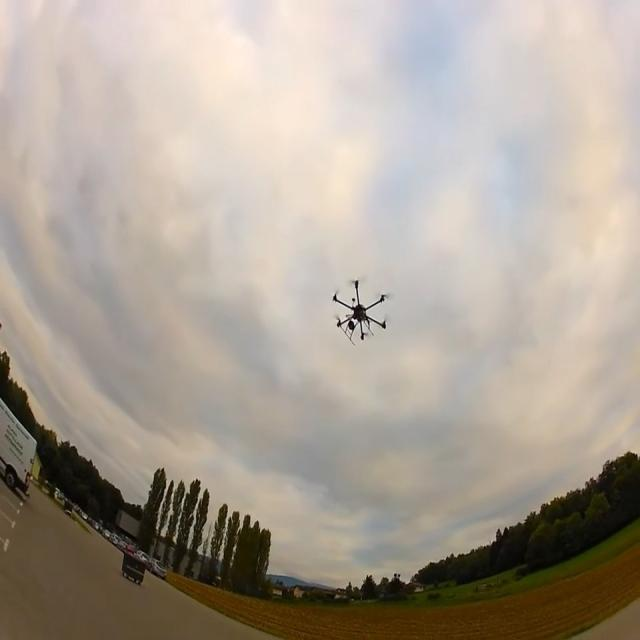drone: (331, 278, 388, 345)
